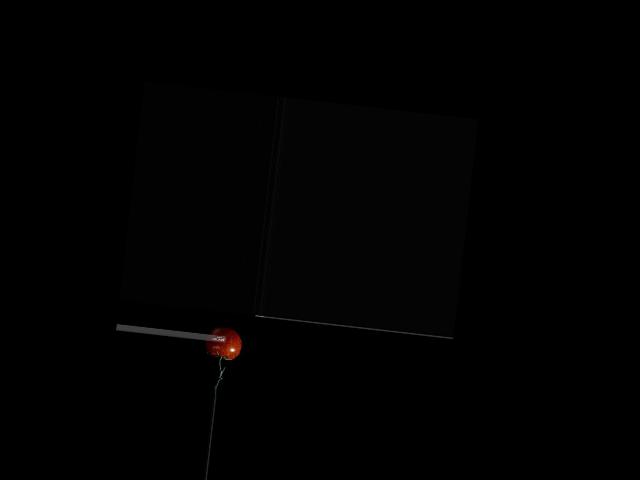tomato: (205, 326, 242, 360)
